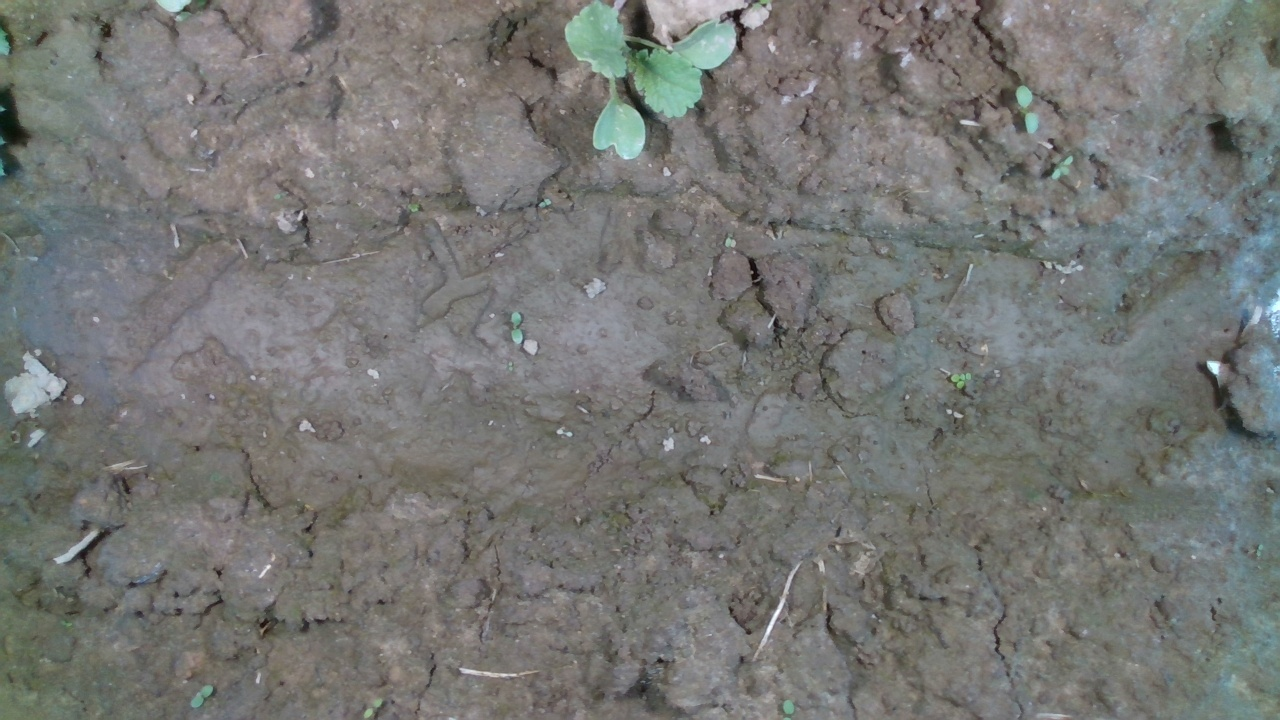weed: (503, 308, 529, 345), (1053, 155, 1080, 185), (947, 366, 975, 392)
